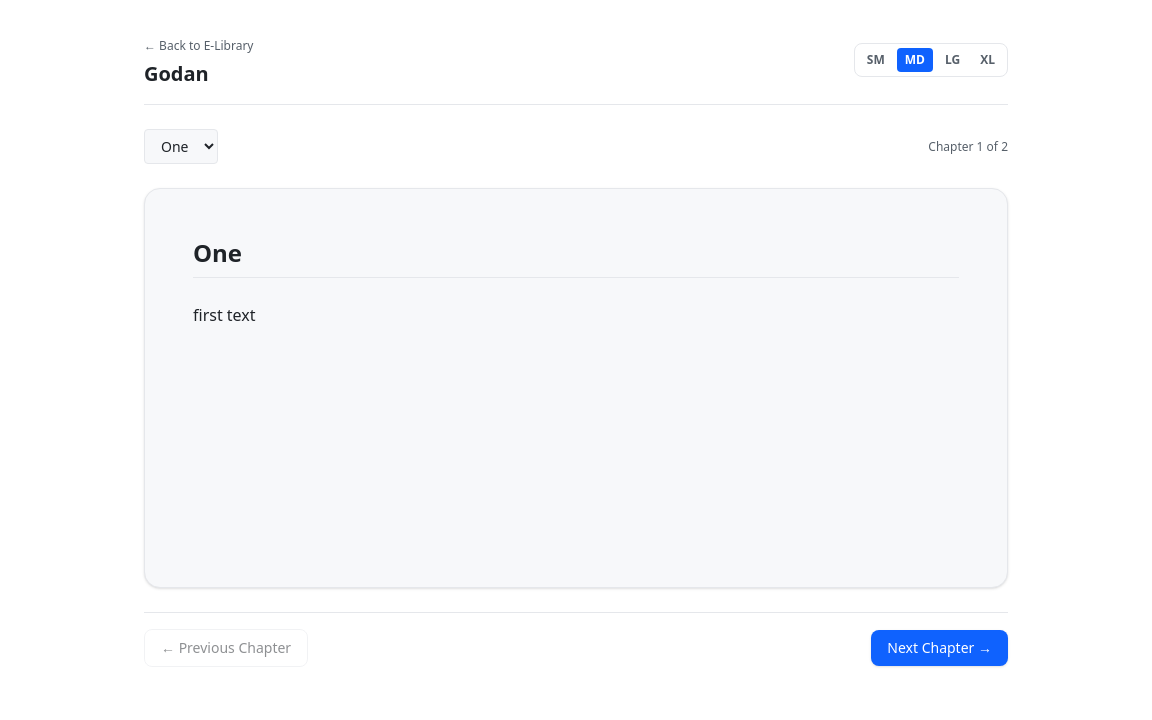
ReaderPageTest › chapterNavigation: Next moves to chapter two and Previous returns
Expected: the heading "One" is shown, left=193, top=237, right=959, bottom=278
Click the button "Next Chapter →": click(940, 648) left=871, top=630, right=1008, bottom=666
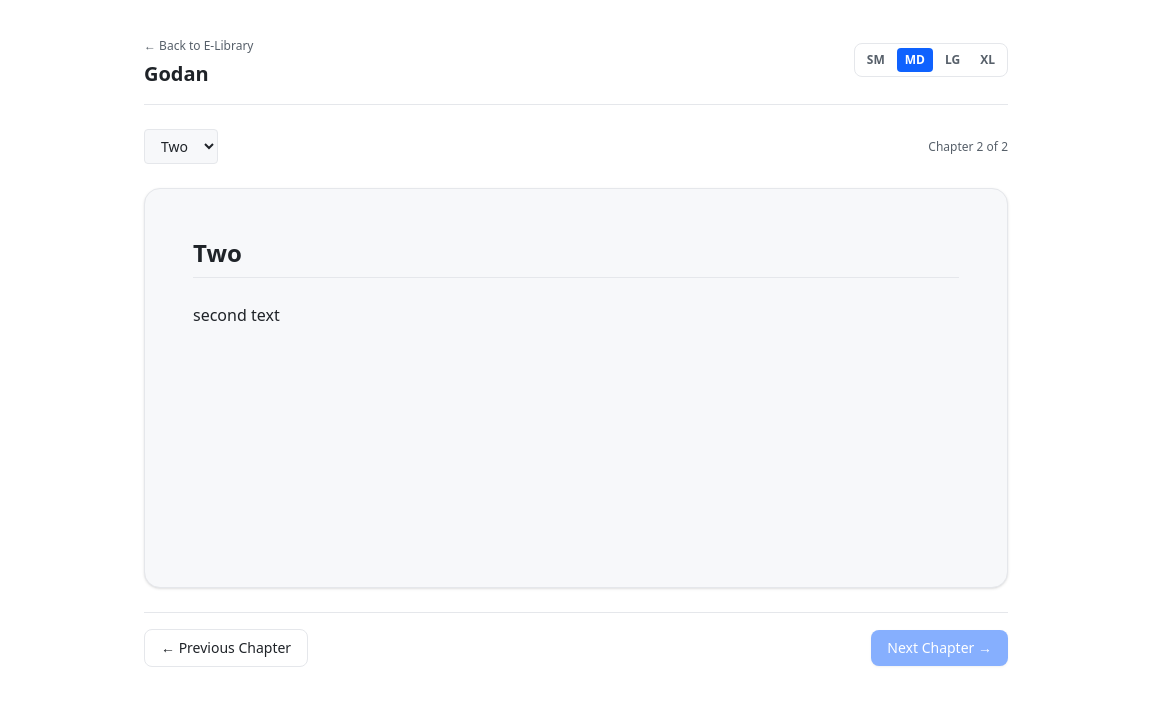
Now the heading "Two" is shown, box left=193, top=237, right=959, bottom=278
Click the button "← Previous Chapter": click(226, 648) left=144, top=629, right=308, bottom=667
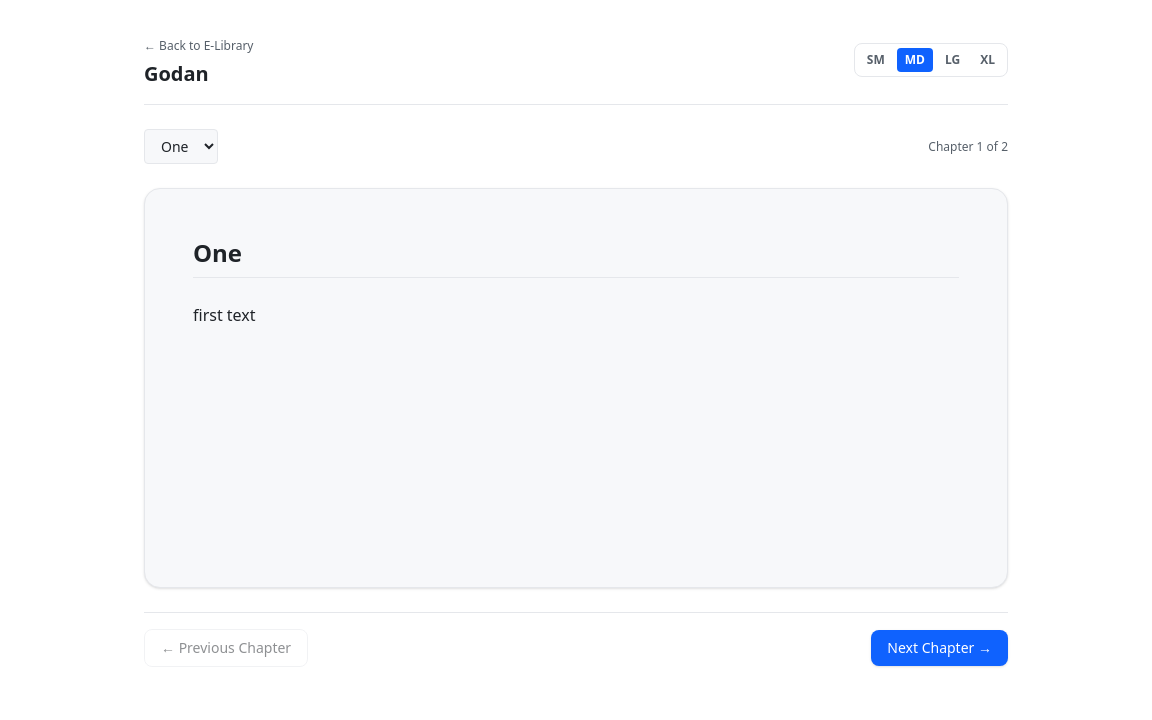
Now the heading "One" is shown, box left=193, top=237, right=959, bottom=278
